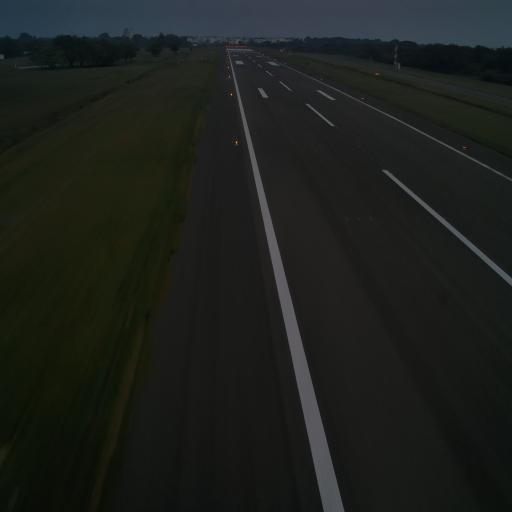off: (343, 212, 349, 225), (368, 213, 373, 223), (355, 216, 361, 224), (358, 141, 362, 149), (304, 142, 307, 148), (296, 142, 299, 147), (311, 142, 314, 146), (336, 125, 338, 130)
on: (234, 138, 239, 149), (462, 142, 466, 154), (362, 96, 364, 100)
